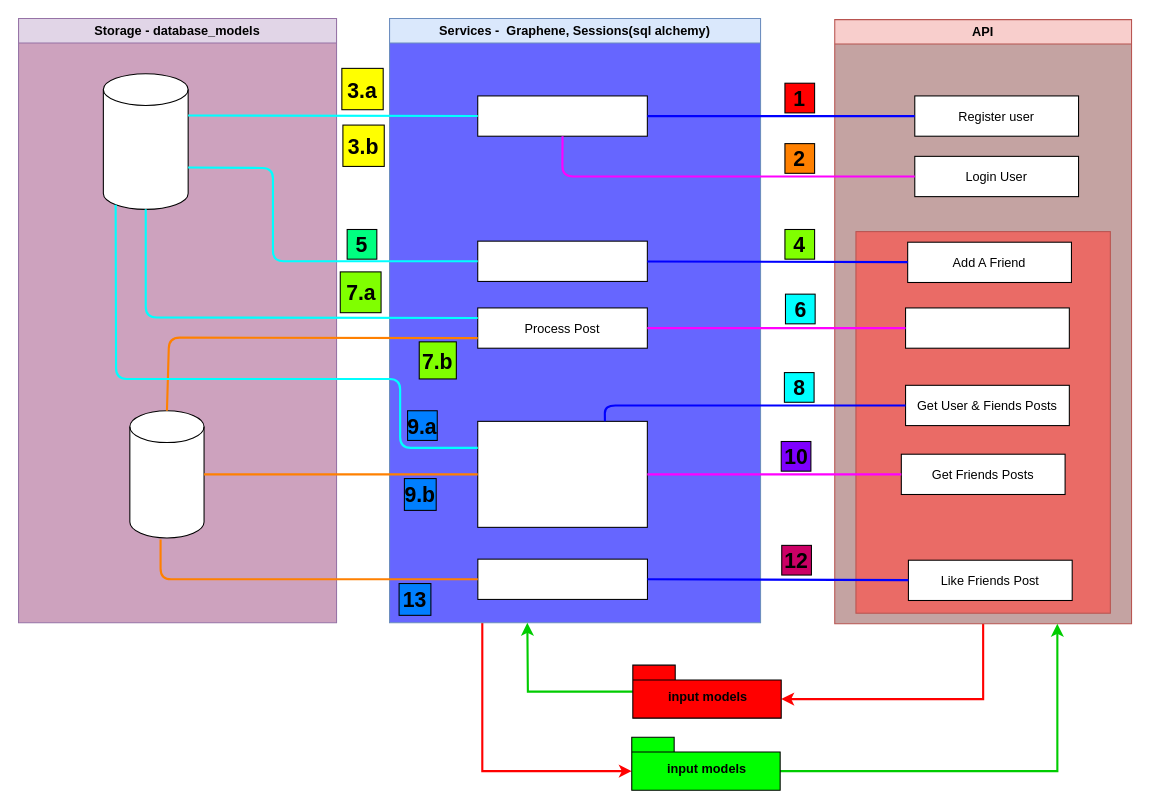
This 1150x809 diagram has some shape labels left out. Each missing label, with the centre of its shape:
Authenticate user: (562,115)
Create friendship: (562,260)
Create Post: (986,327)
Graphene: (562,473)
MySQL: (145,141)
Redis: (166,474)
Update Likes In Friends Post: (562,578)
